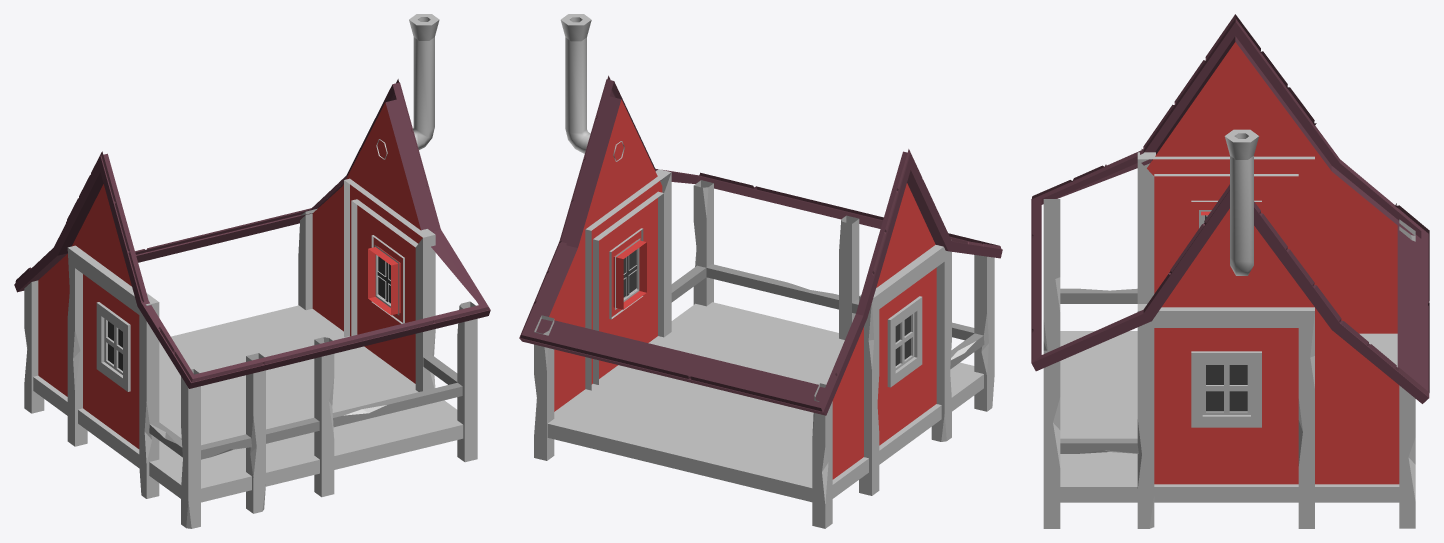
Rendered from House_Stage_02.fbx.
3 renders of one model, left to right at view 1: azimuth 30°, elevation 25°; view 2: azimuth 150°, elevation 25°; view 3: azimuth 270°, elevation 25°, orthographic. The views are drawn at different scales.
Parts seen in each view (by area): view 1: House_5; view 2: House_5; view 3: House_5.
Boxes of the visible parts, bbox=[...] form: House_5: bbox=[14, 14, 490, 528]; House_5: bbox=[519, 14, 1002, 528]; House_5: bbox=[1031, 14, 1429, 528].
Size of the model in its own units: 178 by 185 by 162.
